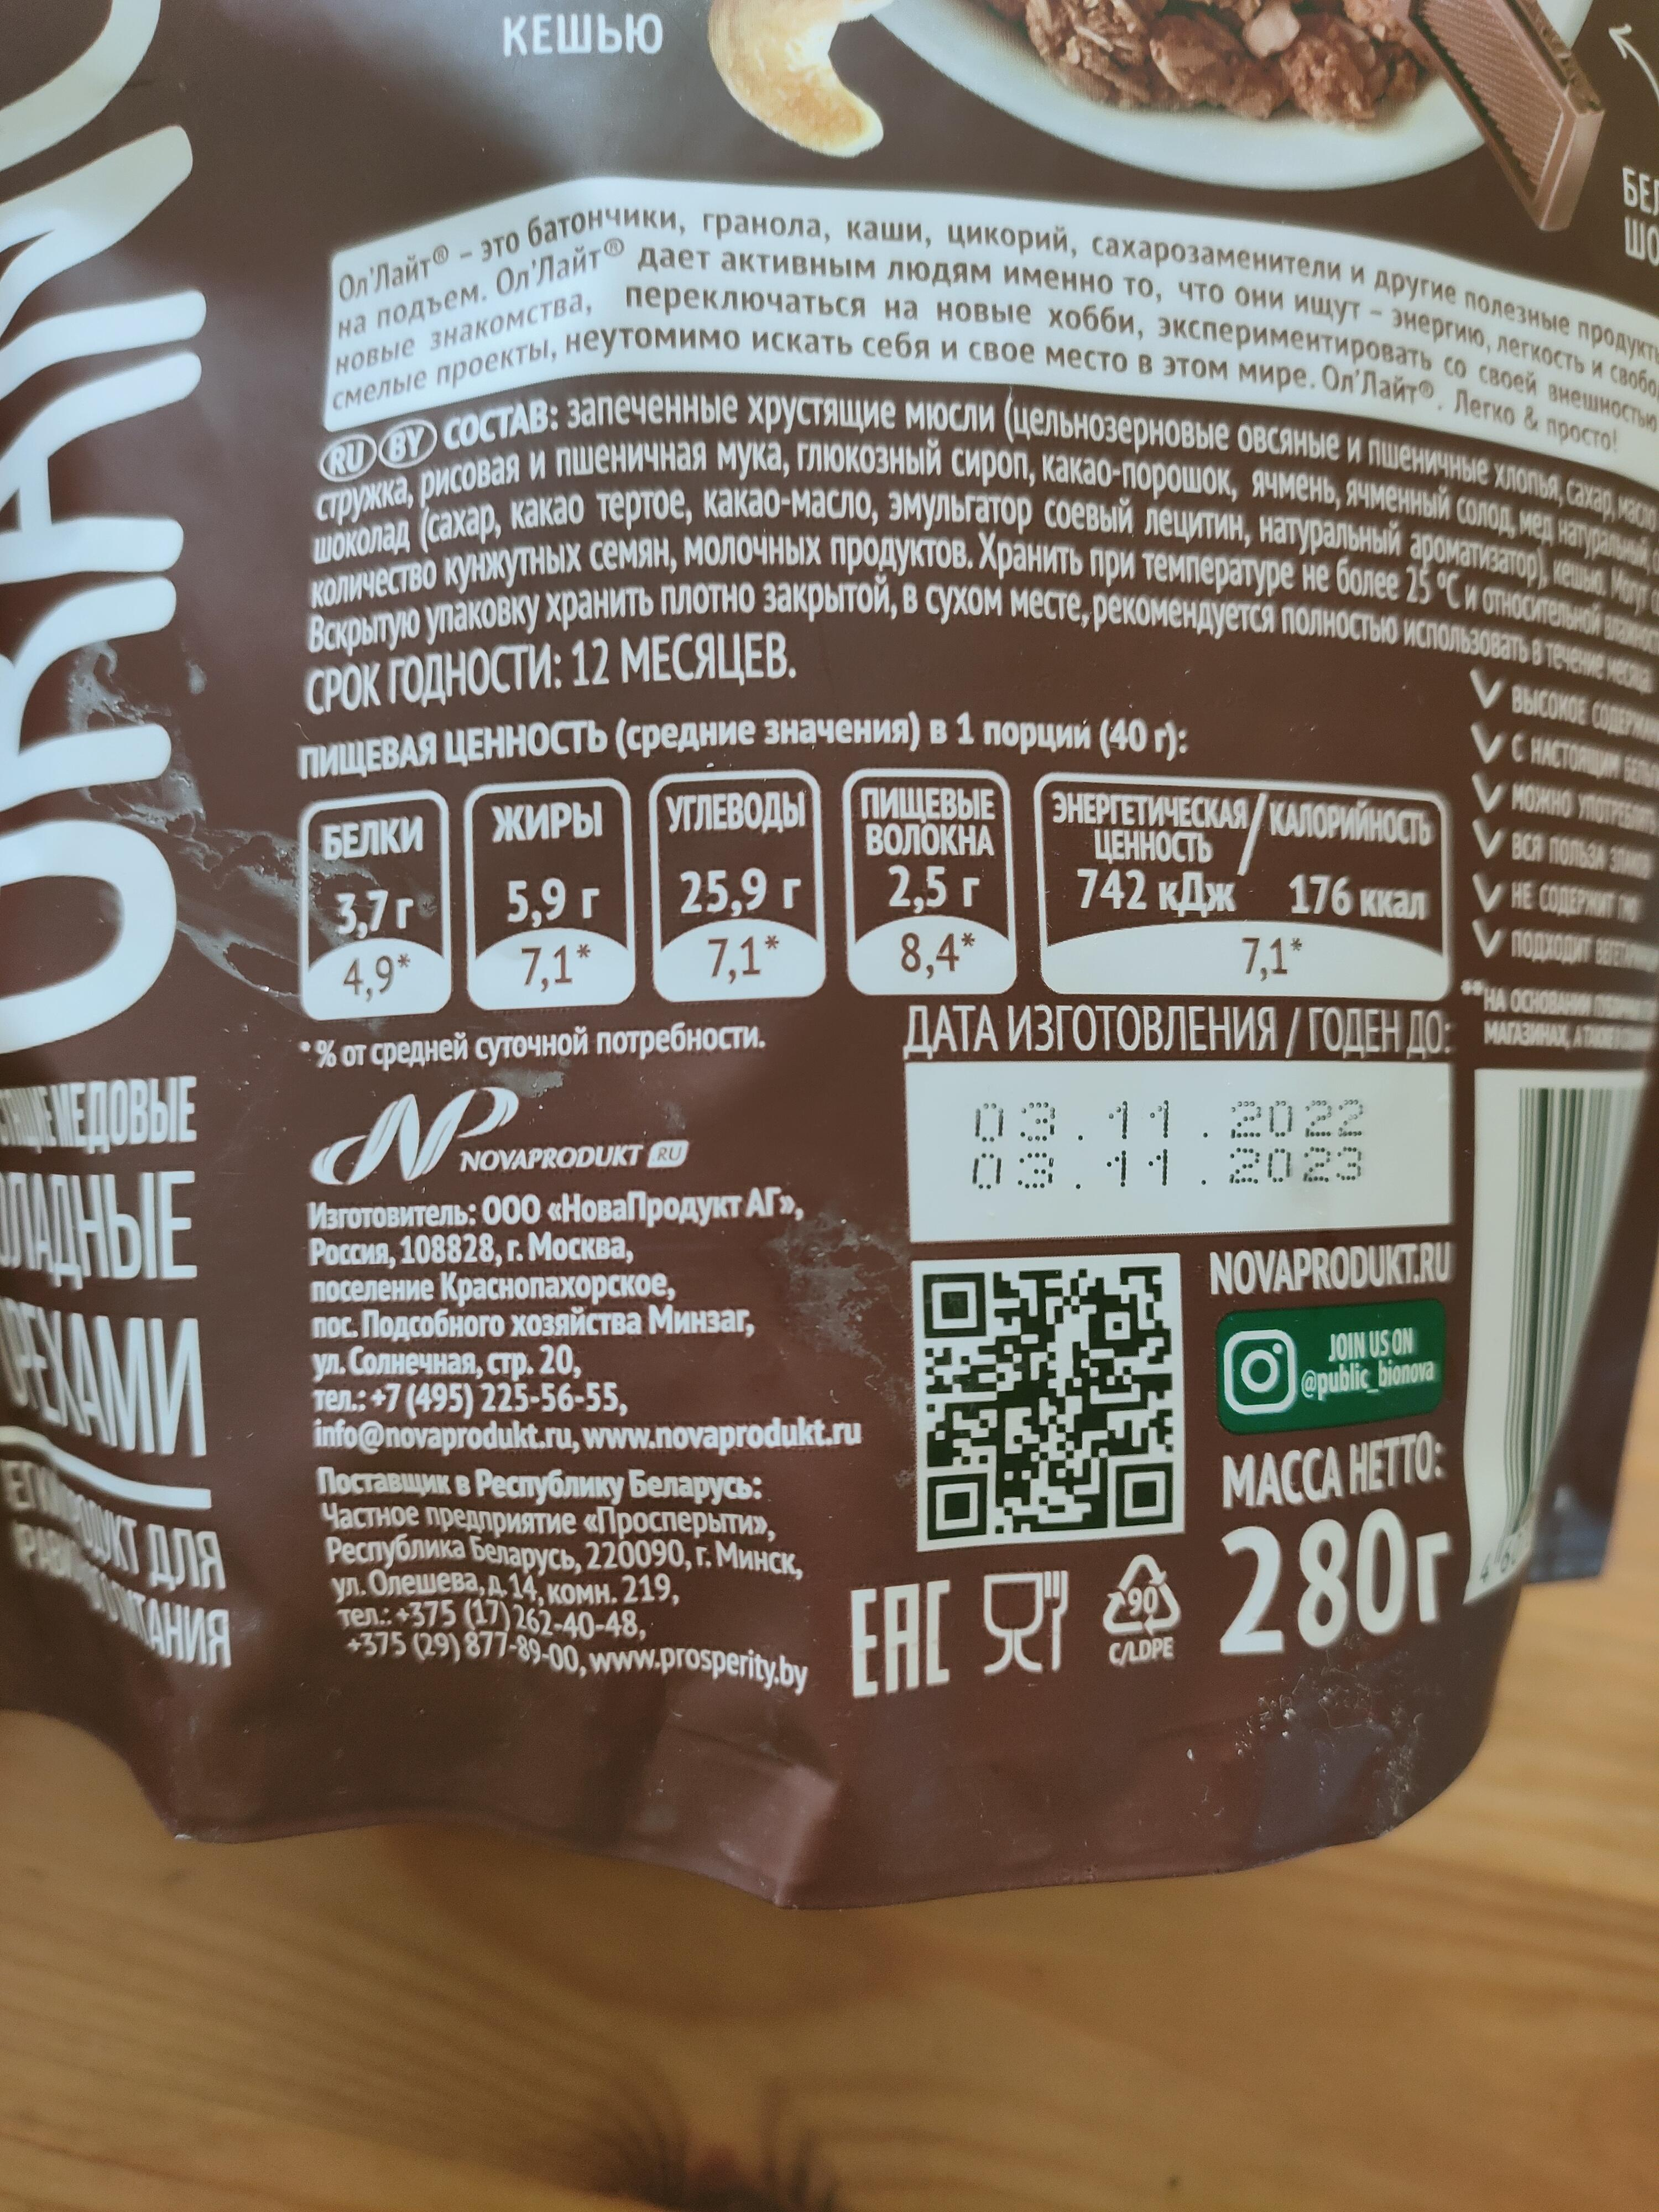qrcode: (922, 1264, 1176, 1538)
